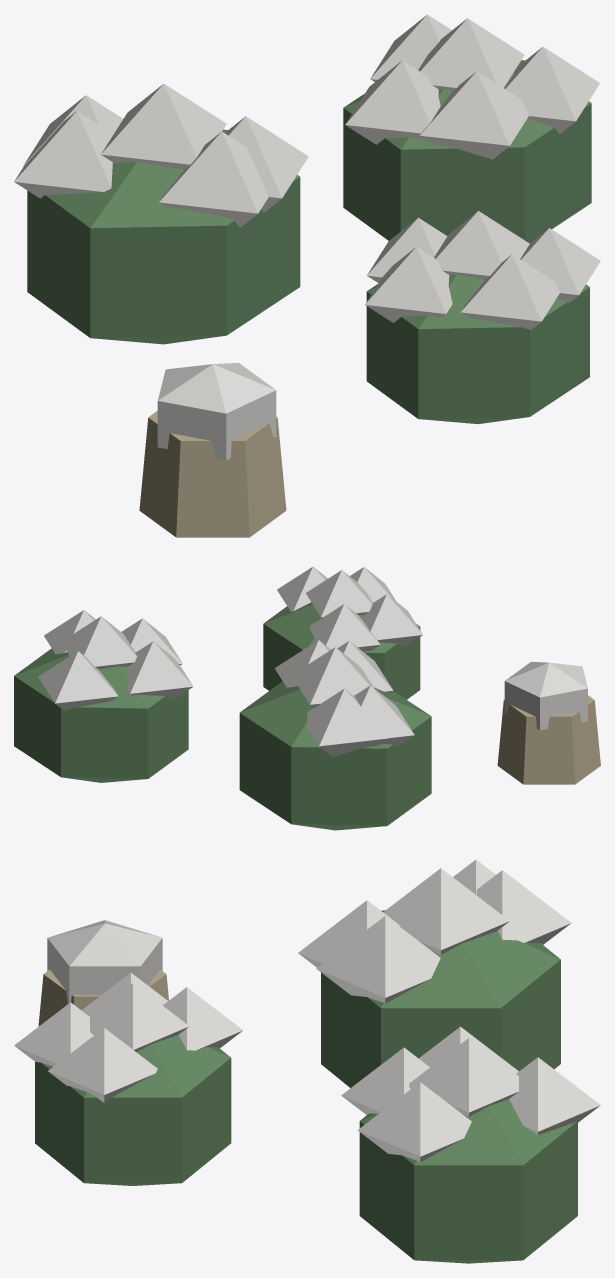
File: cotton.glb
3 views of the same model, one above another, from view 1: azimuth 30°, elevation 25°; view 2: azimuth 150°, elevation 25°; view 3: azimuth 270°, elevation 25° (orthographic). The views are drawn at different scales.
Visible parts, largest first — view 1: LOD0; view 2: LOD0; view 3: LOD0.
Boxes of the visible parts, x1,y1,x2,y2 form: LOD0: (14,14,600,537); LOD0: (14,566,600,830); LOD0: (14,859,600,1263).
Size of what is drawn, in the model's own units: 0.5731 by 0.2404 by 0.5034.
